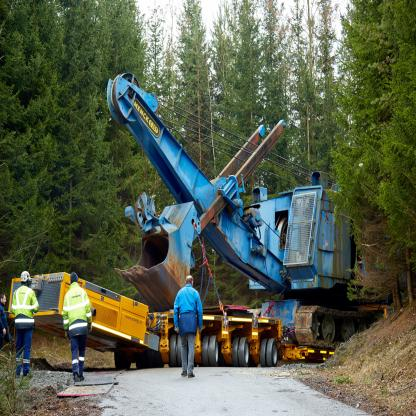excavator: (103, 64, 389, 325)
person: (165, 269, 213, 384), (57, 264, 100, 392), (10, 261, 42, 384)
